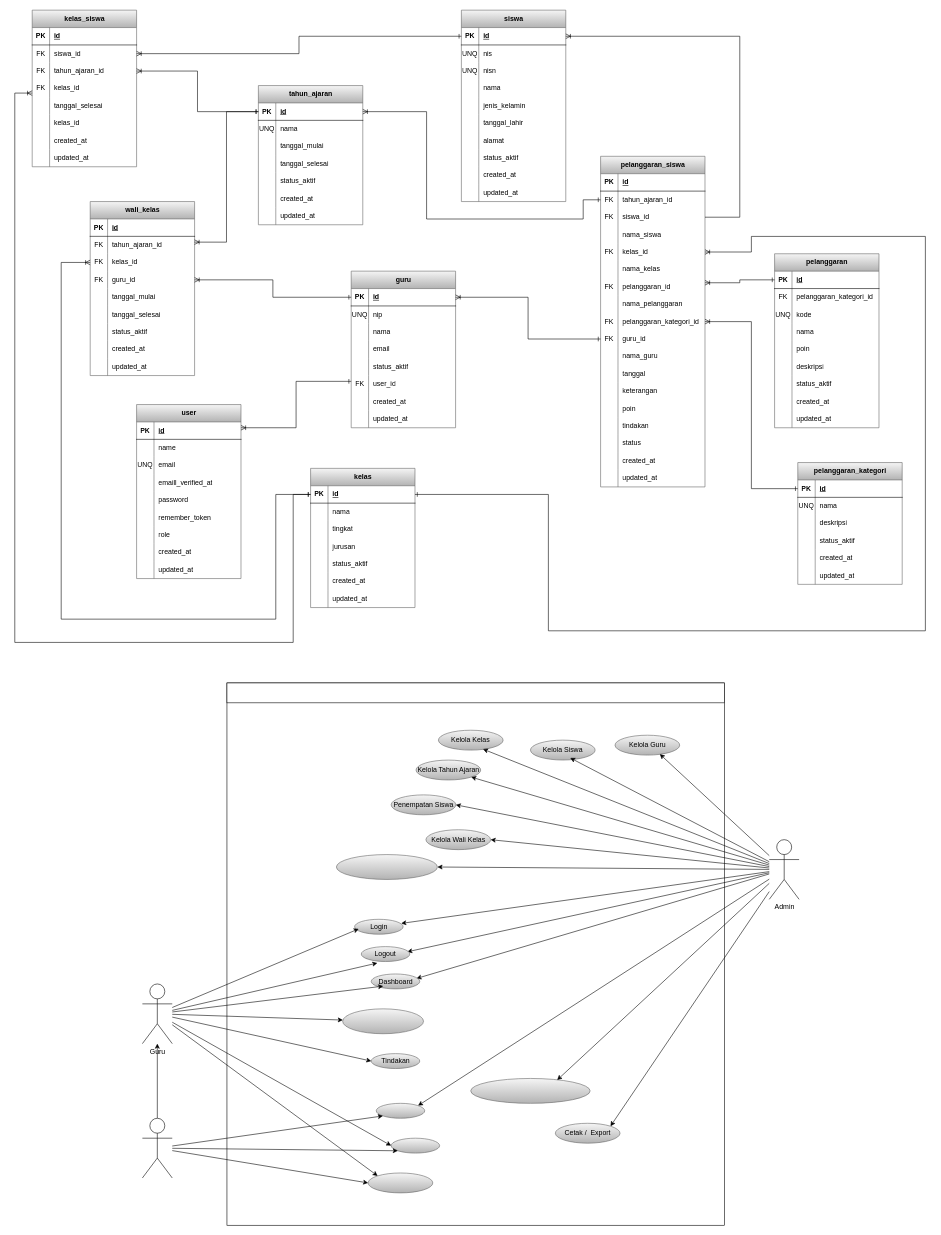
Image size: 941x1235. Some labels were removed from this diagram. Each missing label, with the centre of its shape:
Catat Pelanggan: (383,1021)
Kelola Jenis Pelanggaran: (530,1090)
Kelola Kategori Pelanggan: (386,866)
Laporan: (400,1110)
Rekap Poin: (400,1182)
Riwayat: (415,1145)
Sistem InformasiPelanggaran Siswa: (475,692)
Wali Kelas: (157,1148)
